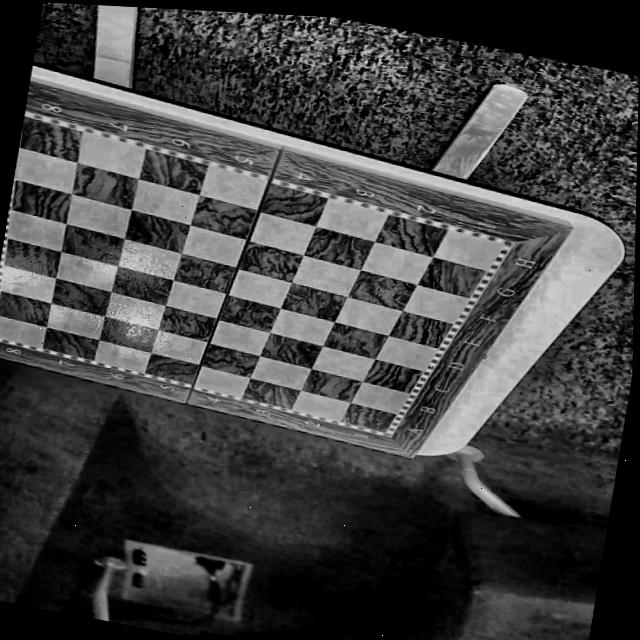chessboard: (0, 116, 502, 432)
